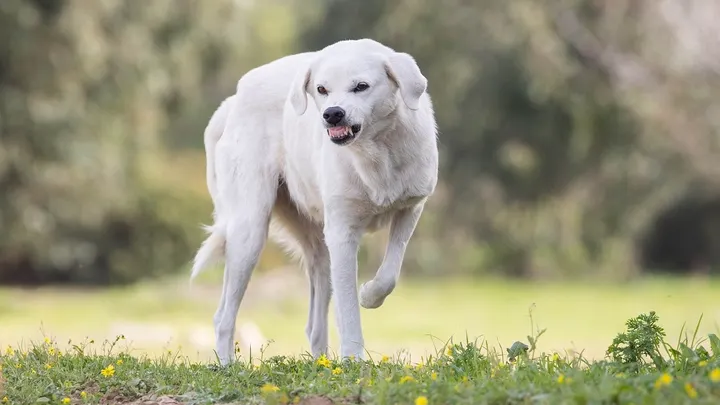dog: (177, 36, 441, 378)
